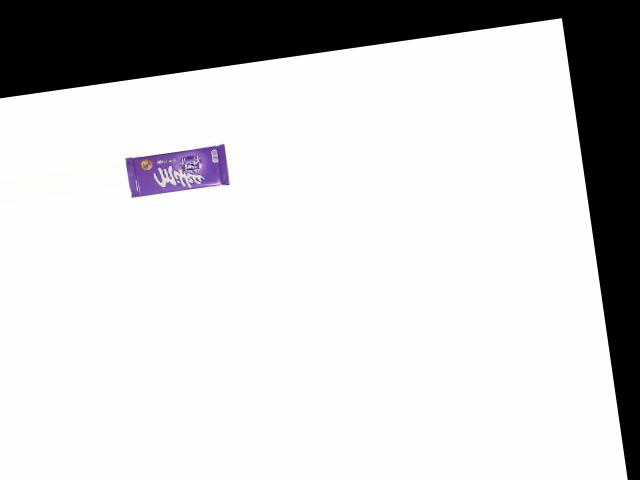chocolate: (123, 138, 235, 200)
